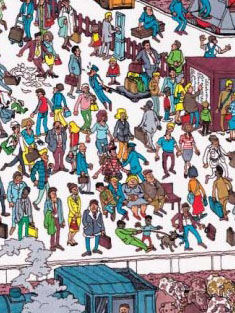waldo: (107, 142, 117, 157)
